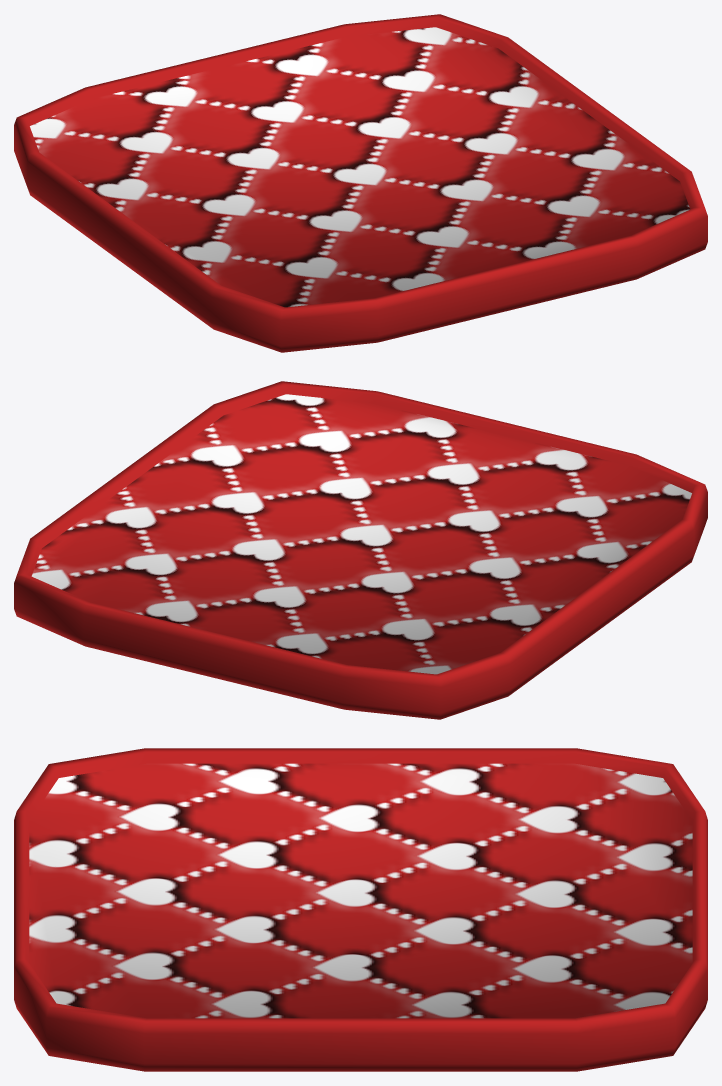
File: Hotpad_A.FBX
3 renders of one model, top to bottom at view 1: azimuth 30°, elevation 25°; view 2: azimuth 150°, elevation 25°; view 3: azimuth 270°, elevation 25°, orthographic. The views are drawn at different scales.
Visible parts, largest first — view 1: Hotpad; view 2: Hotpad; view 3: Hotpad.
Boxes of the visible parts, x1,y1,x2,y2 form: Hotpad: (14,14,707,352); Hotpad: (14,381,707,719); Hotpad: (14,748,707,1071).
Size of the model in its own units: 60.89 by 4.97 by 64.36.
